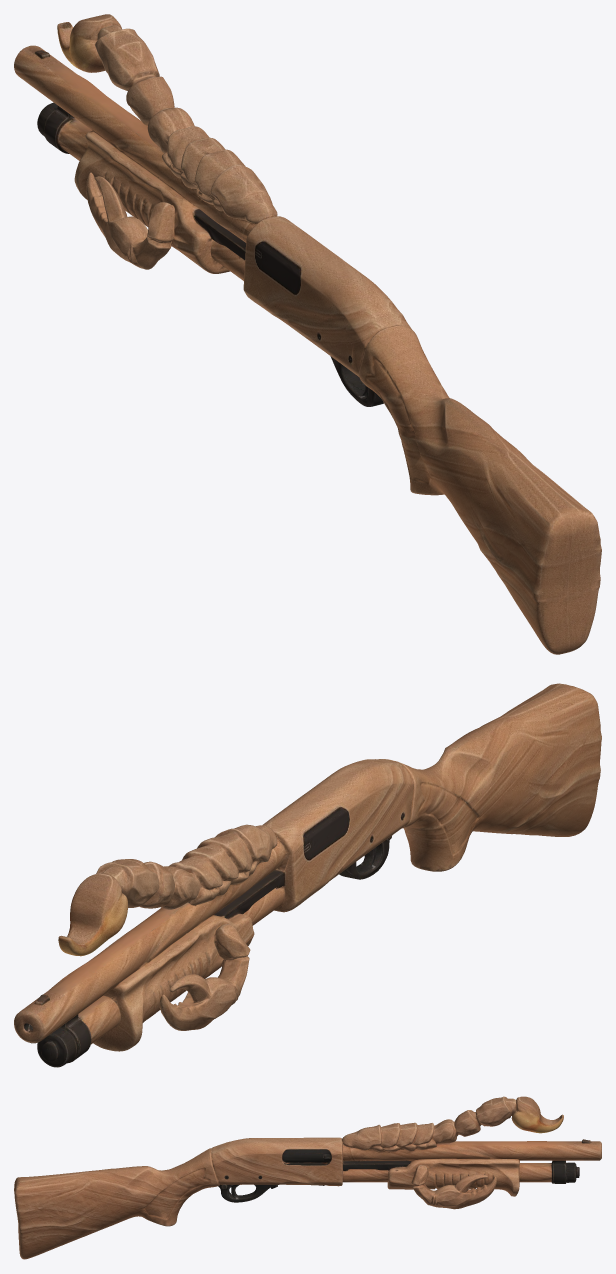
Rendered from pompa_akrep.glb.
3 renders of one model, top to bottom at view 1: azimuth 30°, elevation 25°; view 2: azimuth 150°, elevation 25°; view 3: azimuth 270°, elevation 25°, orthographic. The views are drawn at different scales.
Visible parts, largest first — view 1: govde; view 2: govde; view 3: govde.
Part boxes in pixels (x1=…): govde: x1=14, y1=14, x2=601, y2=654; govde: x1=14, y1=683, x2=601, y2=1067; govde: x1=14, y1=1096, x2=601, y2=1259.
Size of the model in its own units: 0.1006 by 0.2541 by 0.8495.
Materials: 1 (1 with a texture image).
